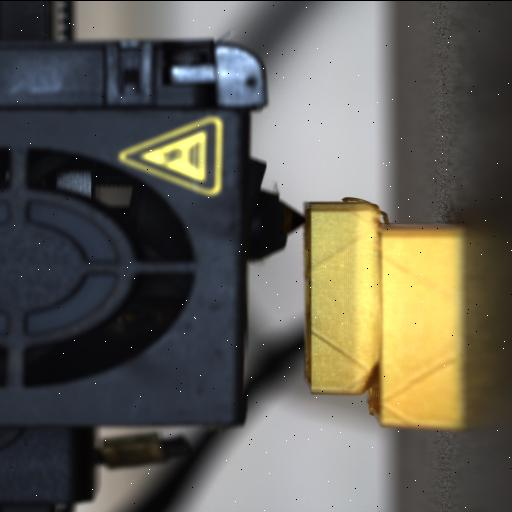layer_shift: (363, 197, 389, 432)
